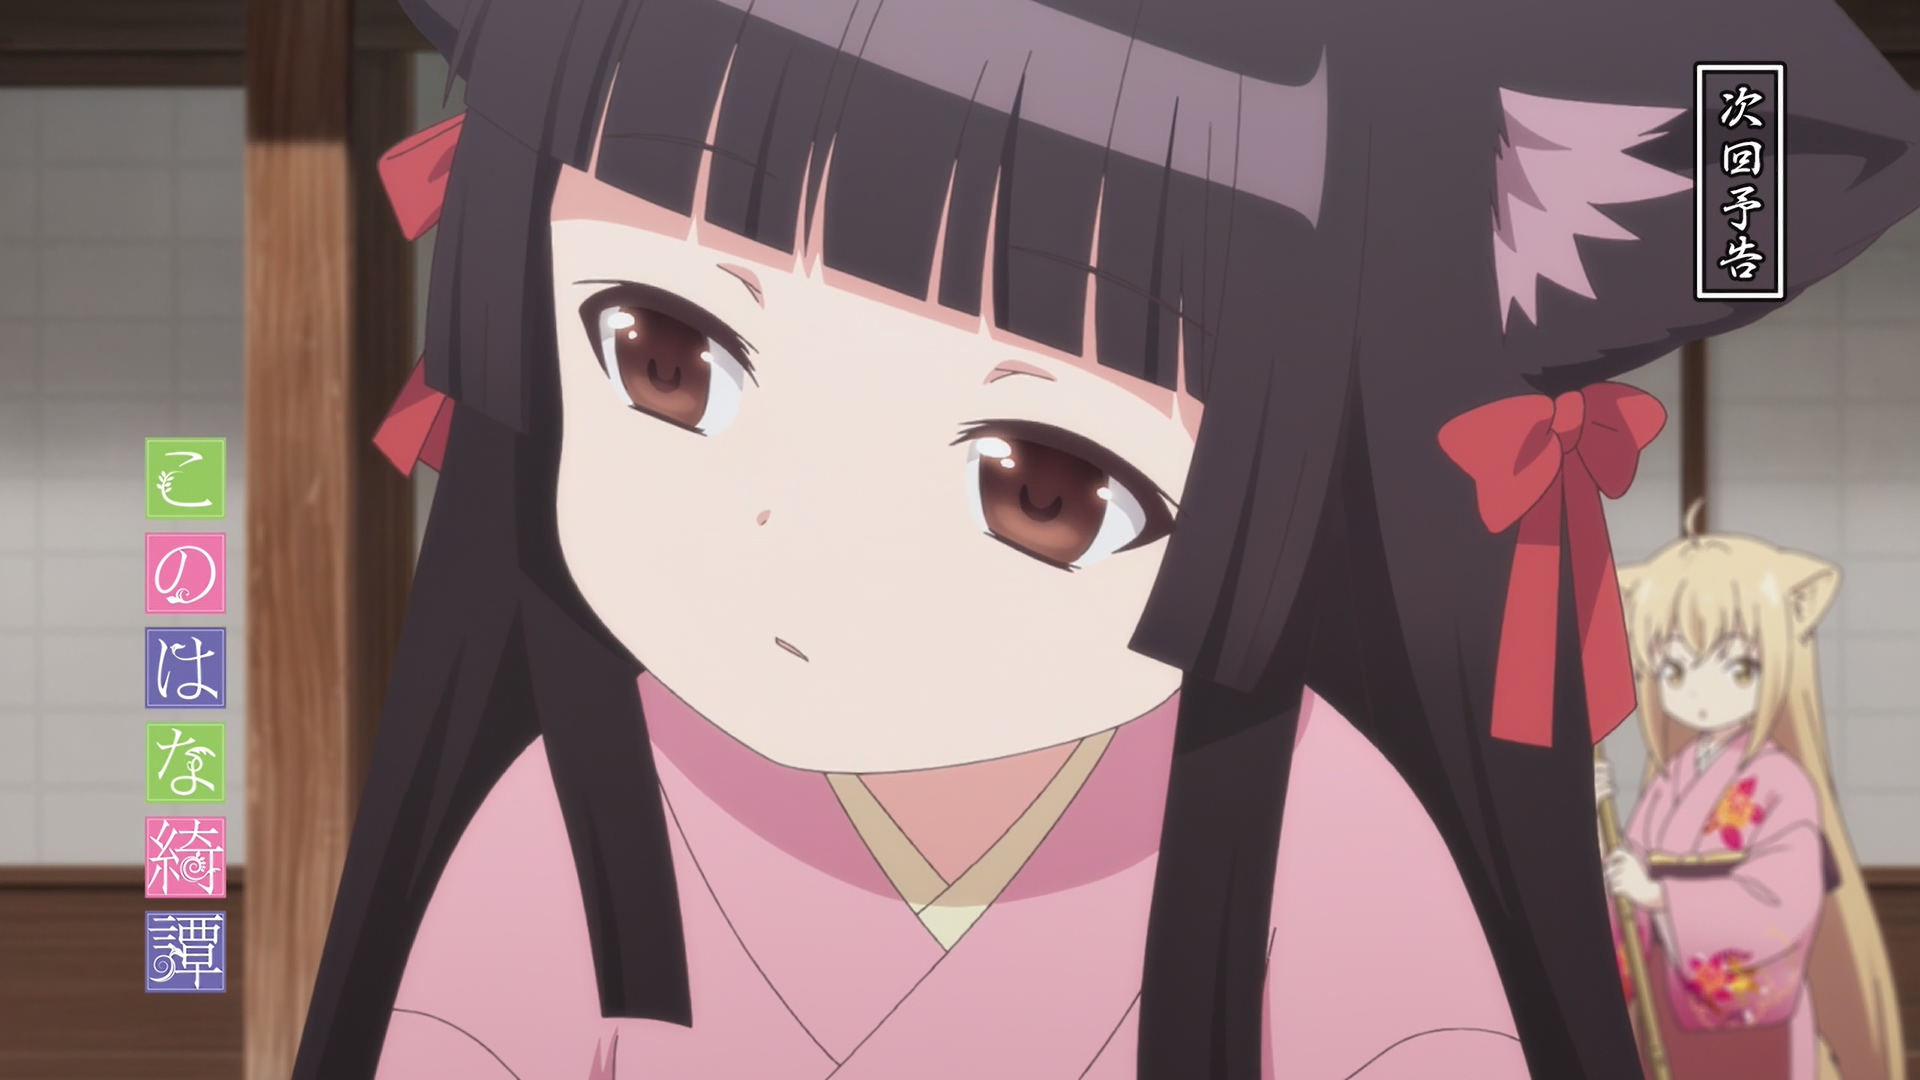柚: (1594, 497, 1905, 1080)
樱: (290, 1, 1920, 1080)
